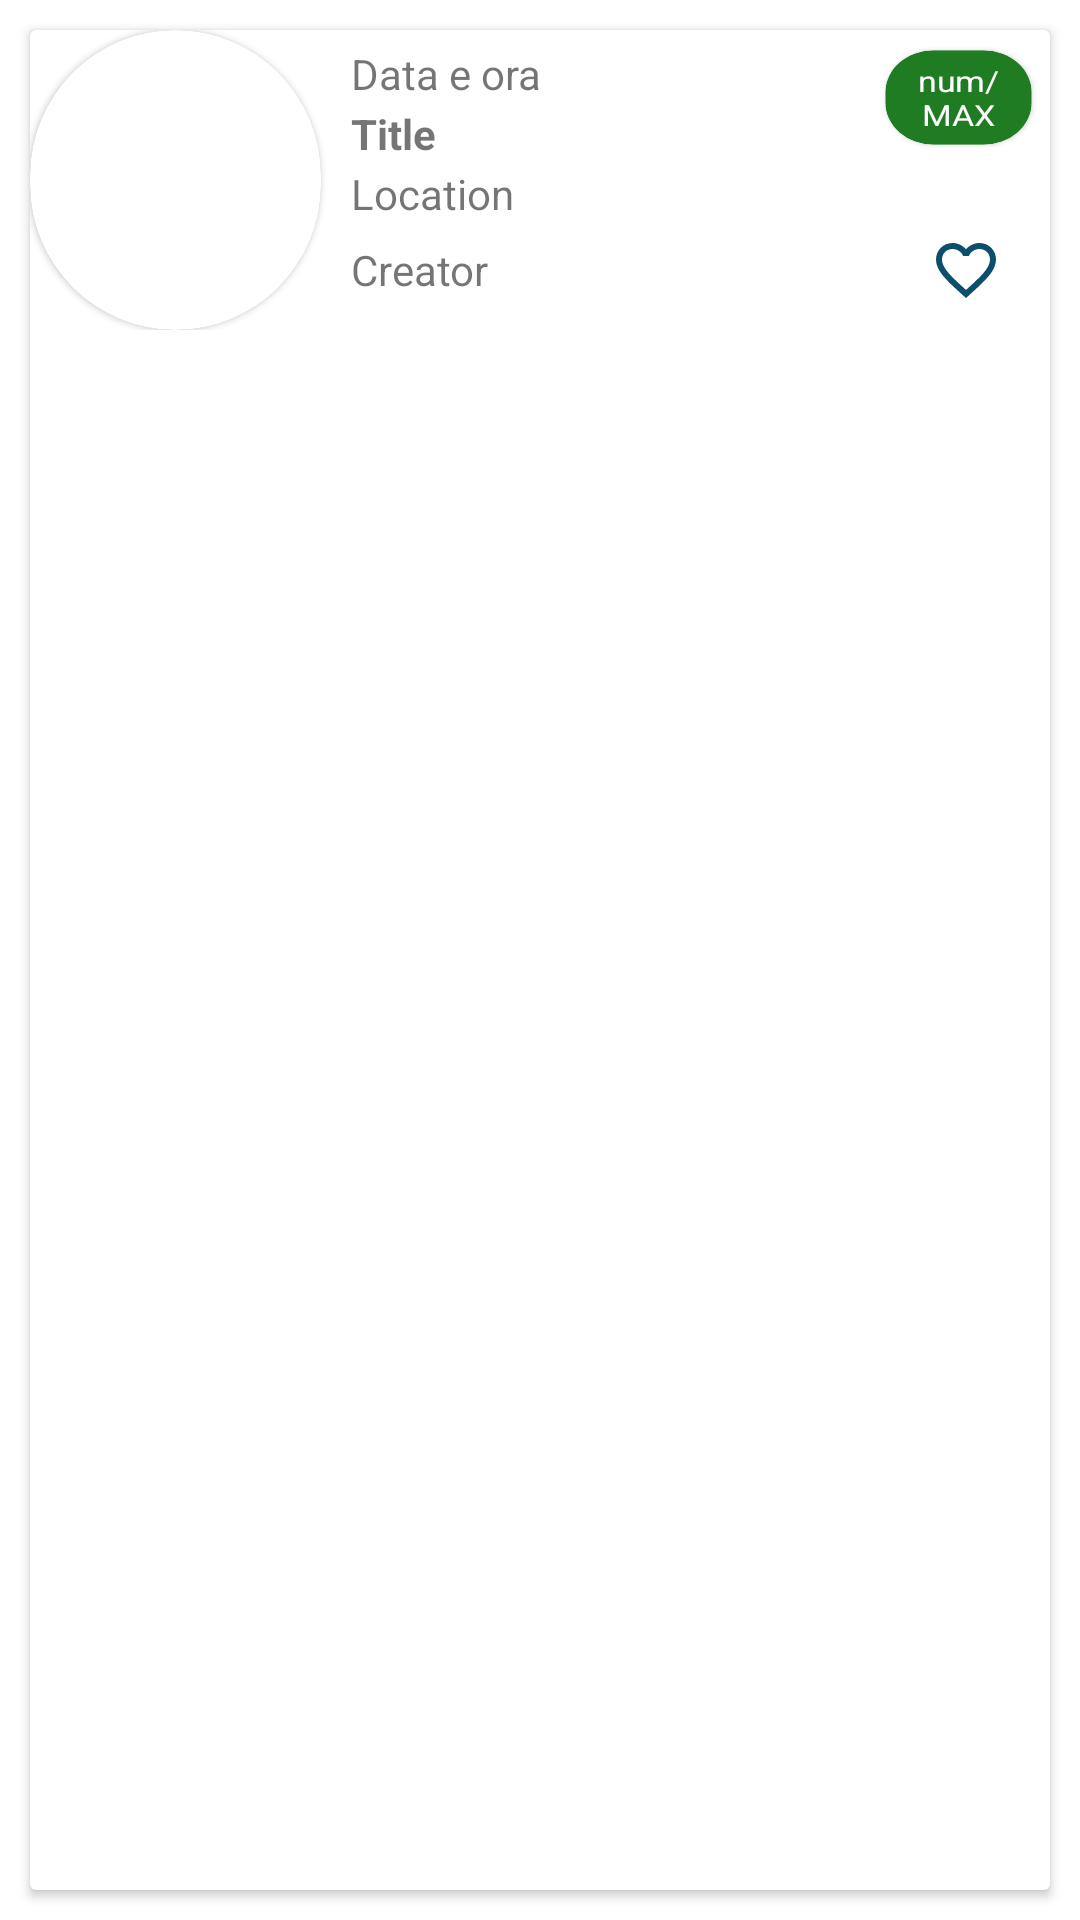

Where to tap for icons on this 1080x1920 app screen, as (x,y):
favorite border: (966,270)
